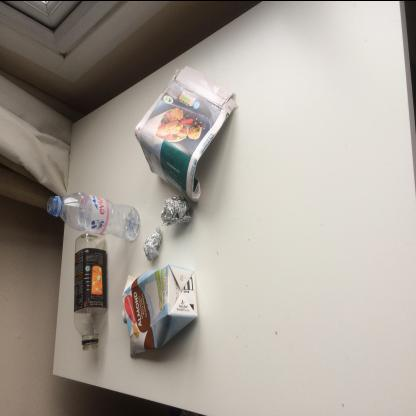karton: (135, 65, 241, 203), (123, 264, 199, 356)
metal: (162, 196, 194, 226), (145, 226, 165, 262)
plastik: (48, 193, 142, 243), (74, 232, 108, 351)
